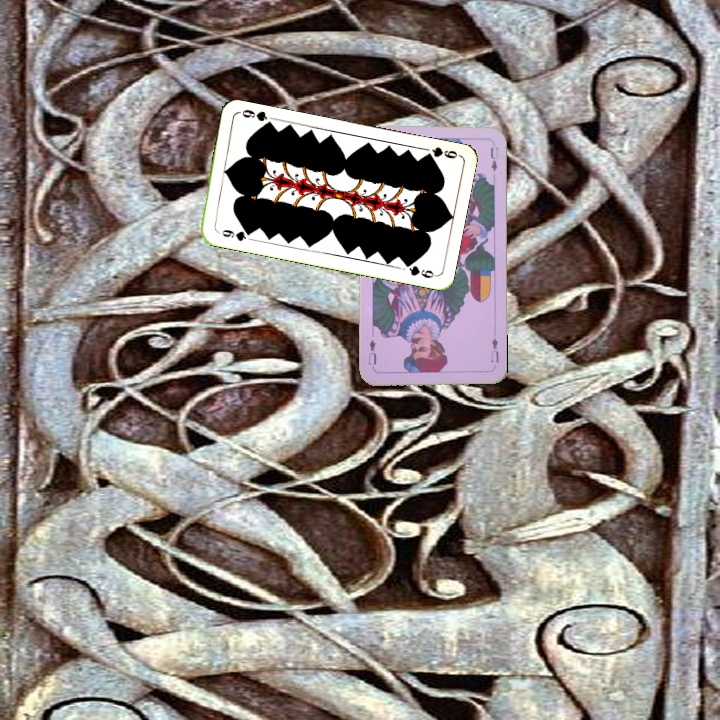EU: (487, 334, 501, 365)
G9: (213, 225, 254, 244), (420, 143, 462, 161)
